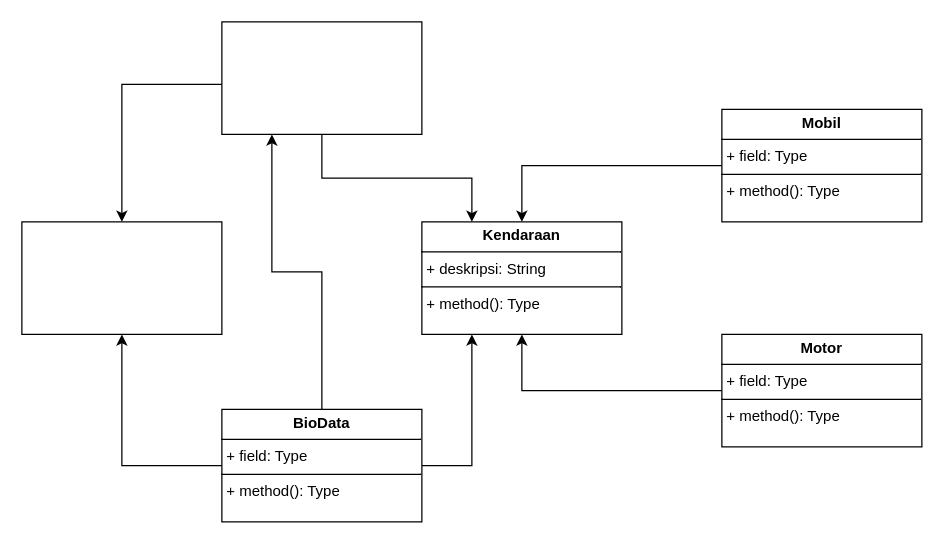
This 944x544 diagram has some shape labels left out. Here are the shapes that lost their labels. From the top down, the centre of each, then its label:
[321,77]: SistemRental + status: String - paymentType: String + method(): Type
[121,277]: Main + field: Type + method(): Type
